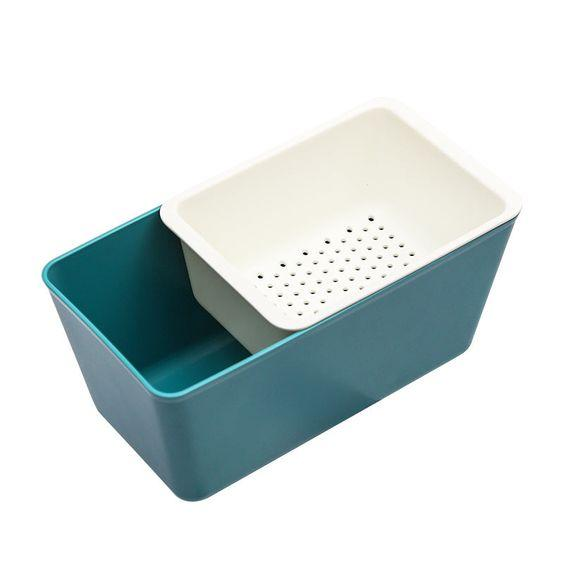HDPE: (0, 69, 556, 561)
